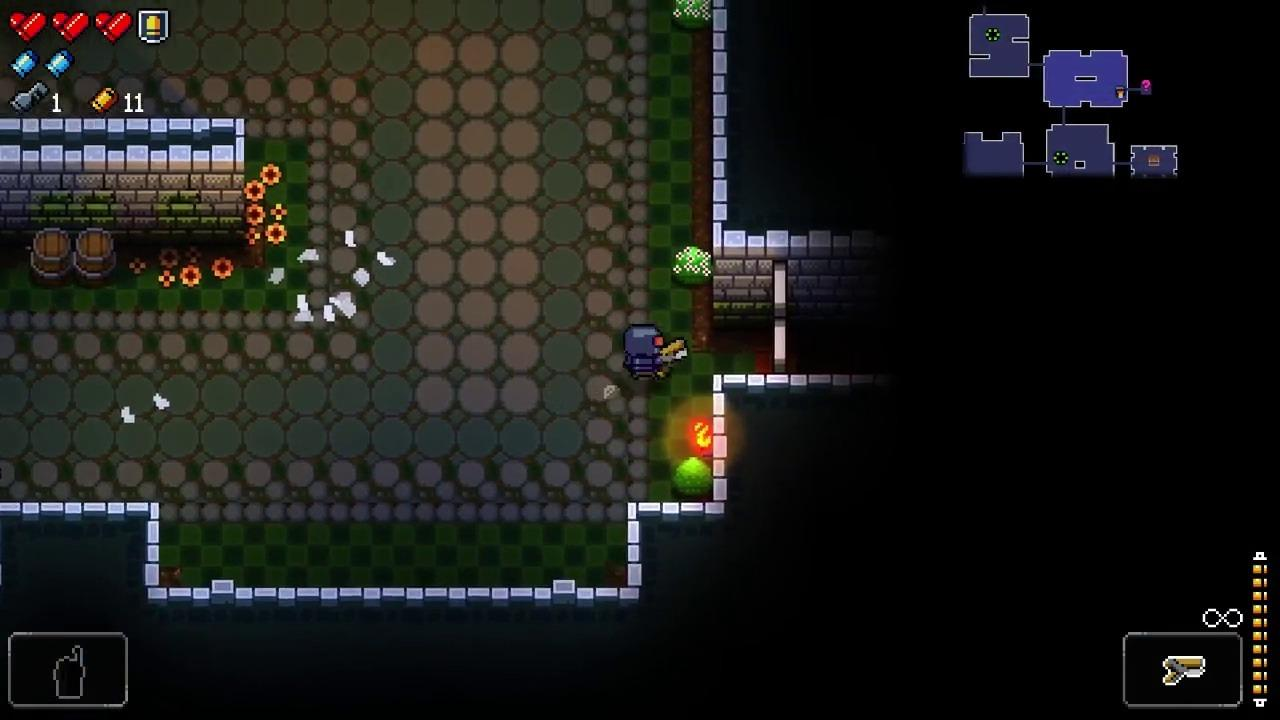player: (624, 324, 664, 383)
unlocked_door: (772, 261, 788, 375)
wall: (0, 118, 244, 243)
